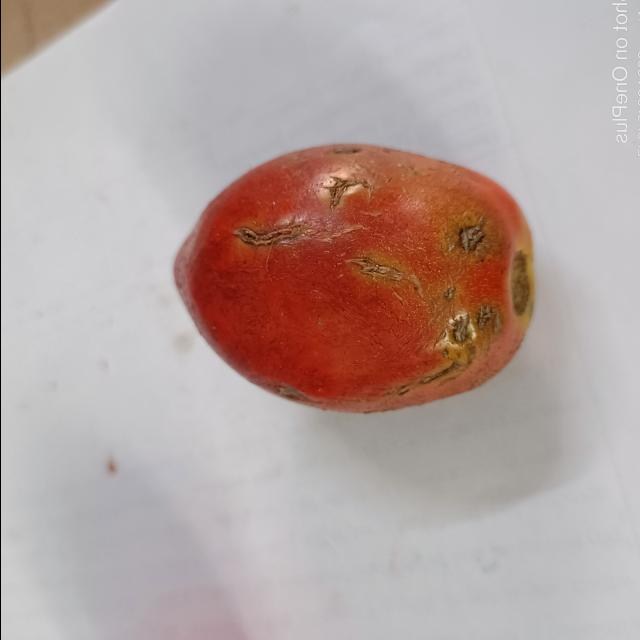Bacterial_Spot: (440, 308, 500, 346), (392, 364, 458, 396), (345, 255, 404, 282), (228, 226, 294, 246), (322, 176, 366, 206), (457, 225, 482, 252), (442, 285, 456, 302)
